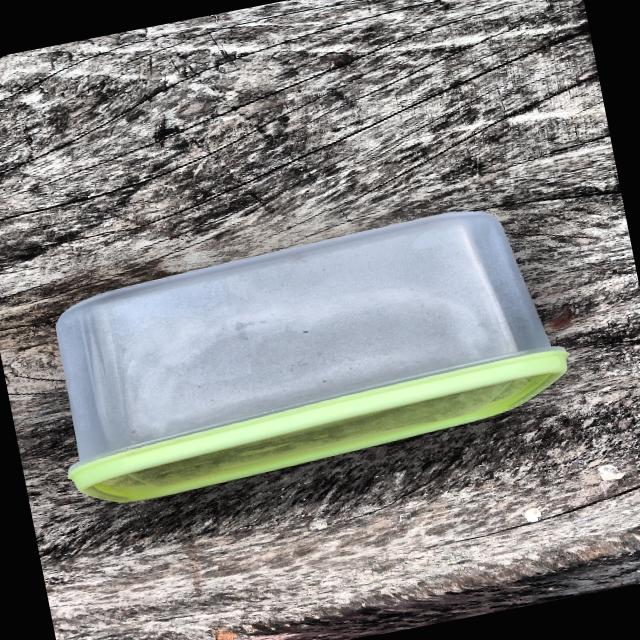plastic container: (7, 152, 614, 538)
